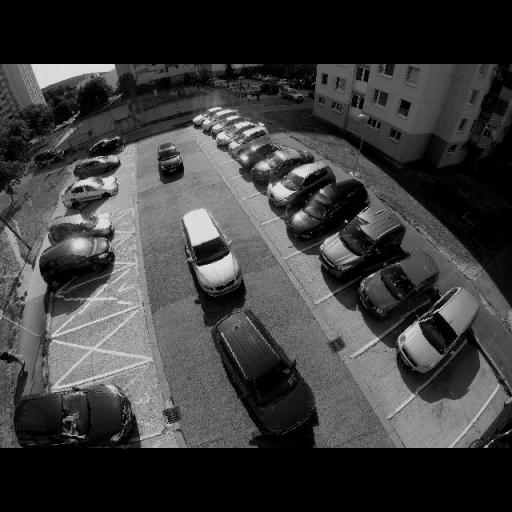busy: (208, 302, 314, 438), (17, 383, 135, 446), (398, 290, 478, 376), (179, 204, 245, 296), (358, 250, 439, 320), (320, 213, 402, 277), (286, 181, 374, 238), (35, 233, 115, 281), (270, 162, 336, 204), (47, 208, 115, 244), (252, 147, 306, 183), (59, 176, 117, 208), (226, 126, 270, 156), (71, 156, 119, 180), (237, 142, 280, 168), (84, 136, 124, 158), (30, 148, 66, 168)
free: (54, 333, 136, 366), (414, 385, 474, 428), (64, 285, 117, 315), (79, 198, 121, 222), (102, 166, 128, 183)
